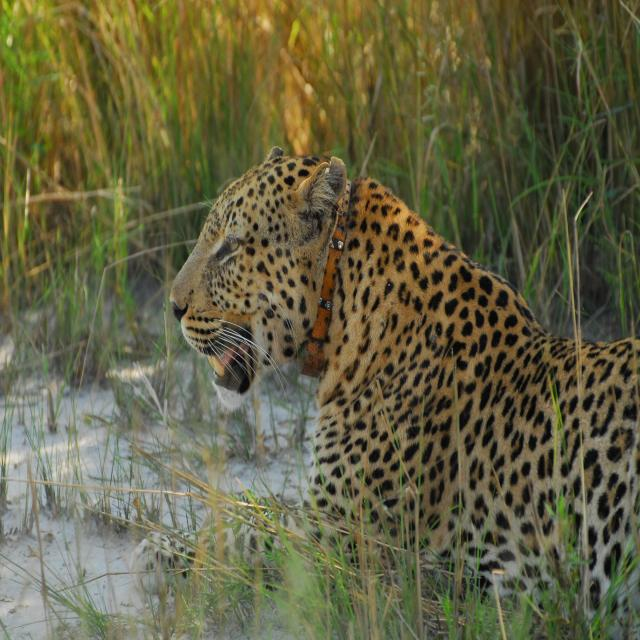Leopard: (81, 122, 640, 639)
